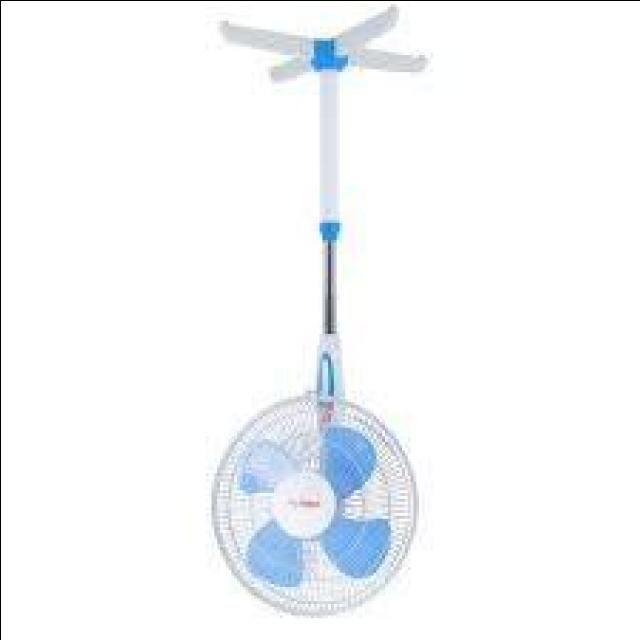fan: (214, 5, 434, 621)
